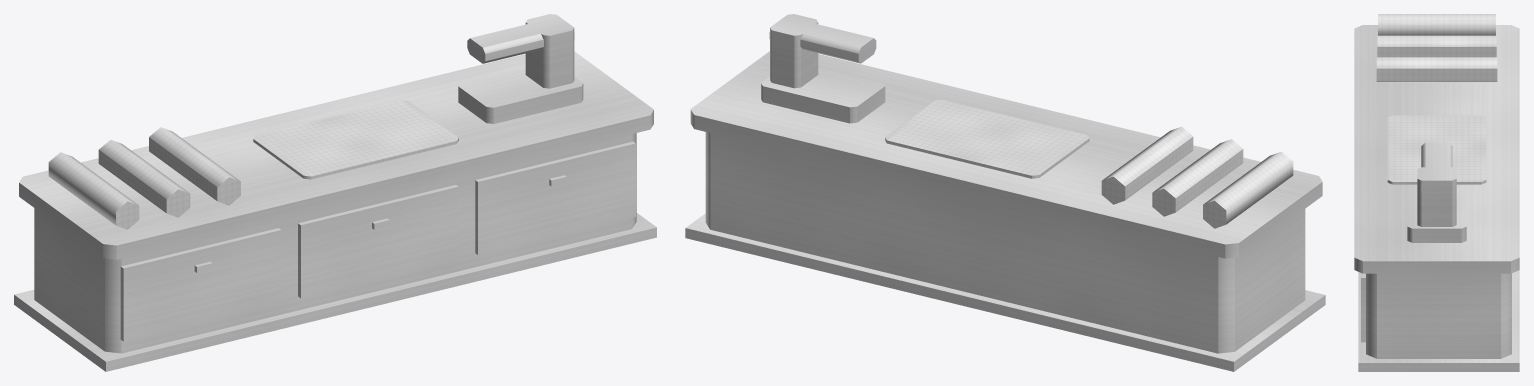
Rendered from bench_electric_tailor.obj.
3 views of the same model, side by side, from view 1: azimuth 30°, elevation 25°; view 2: azimuth 150°, elevation 25°; view 3: azimuth 270°, elevation 25° (orthographic). The views are drawn at different scales.
Visible parts, largest first — view 1: worktop, cabinet, left_door, right_door, middle_door, plinth, fabric, sewing_base, cushion_roll, blanket_roll, cloth_roll, sewing_upright (+1 smaller); view 2: cabinet, worktop, plinth, fabric, sewing_base, cushion_roll, blanket_roll, cloth_roll, sewing_upright, sewing_arm; view 3: worktop, cabinet, fabric, plinth, cushion_roll, blanket_roll, cloth_roll, sewing_upright, sewing_base, sewing_arm, right_door.
Boxes of the visible parts, x1=… form: worktop: x1=19, y1=51, x2=653, y2=259; cabinet: x1=34, y1=133, x2=636, y2=353; left_door: x1=120, y1=228, x2=281, y2=341; right_door: x1=475, y1=141, x2=635, y2=254; middle_door: x1=298, y1=185, x2=458, y2=298; plinth: x1=14, y1=213, x2=656, y2=371; fabric: x1=253, y1=100, x2=458, y2=179; sewing_base: x1=458, y1=67, x2=583, y2=123; cushion_roll: x1=149, y1=127, x2=240, y2=205; blanket_roll: x1=98, y1=139, x2=190, y2=217; cloth_roll: x1=48, y1=152, x2=139, y2=229; sewing_upright: x1=525, y1=14, x2=574, y2=88; cabinet: x1=705, y1=132, x2=1305, y2=353; worktop: x1=690, y1=51, x2=1322, y2=258; plinth: x1=685, y1=213, x2=1325, y2=371; fabric: x1=885, y1=99, x2=1089, y2=178; sewing_base: x1=761, y1=67, x2=885, y2=123; cushion_roll: x1=1101, y1=126, x2=1193, y2=204; blanket_roll: x1=1152, y1=139, x2=1243, y2=216; cloth_roll: x1=1203, y1=151, x2=1293, y2=228; sewing_upright: x1=770, y1=14, x2=818, y2=88; sewing_arm: x1=769, y1=18, x2=876, y2=63; worktop: x1=1354, y1=25, x2=1519, y2=273; cabinet: x1=1366, y1=273, x2=1511, y2=358; fabric: x1=1387, y1=115, x2=1486, y2=184; plinth: x1=1358, y1=270, x2=1519, y2=371; cushion_roll: x1=1376, y1=57, x2=1497, y2=82; blanket_roll: x1=1377, y1=35, x2=1496, y2=57; cloth_roll: x1=1378, y1=14, x2=1495, y2=35; sewing_upright: x1=1417, y1=167, x2=1456, y2=226; sewing_base: x1=1407, y1=187, x2=1466, y2=242; sewing_arm: x1=1421, y1=142, x2=1452, y2=194; right_door: x1=1361, y1=273, x2=1365, y2=342.
Size of the model in its own units: 2.84 by 0.96 by 0.84.
